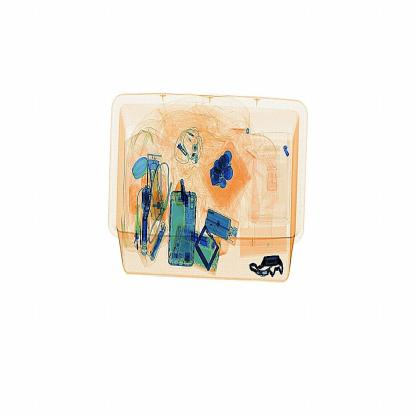pliers: (174, 177, 191, 214)
